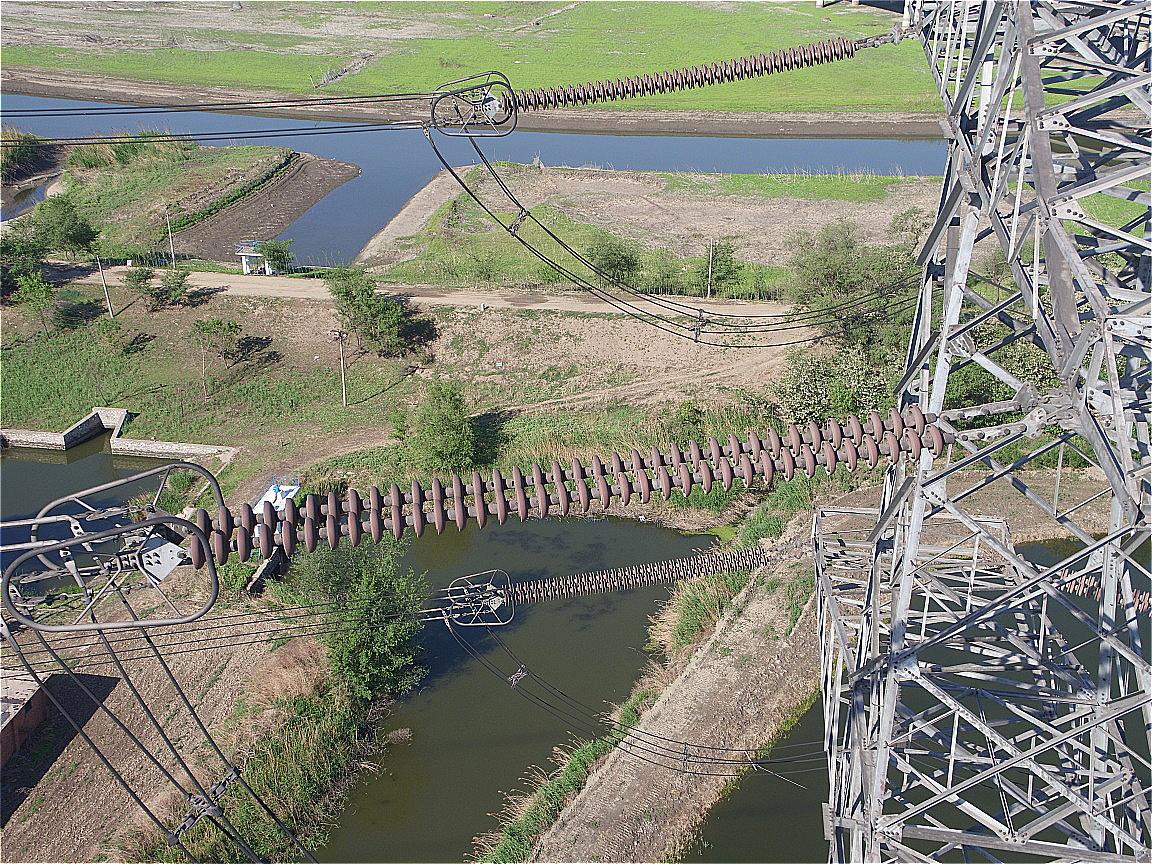insultor1: (188, 403, 944, 572)
insultor2: (499, 34, 857, 117), (501, 545, 767, 610)
